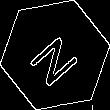N_NE: (24, 24, 86, 86)
